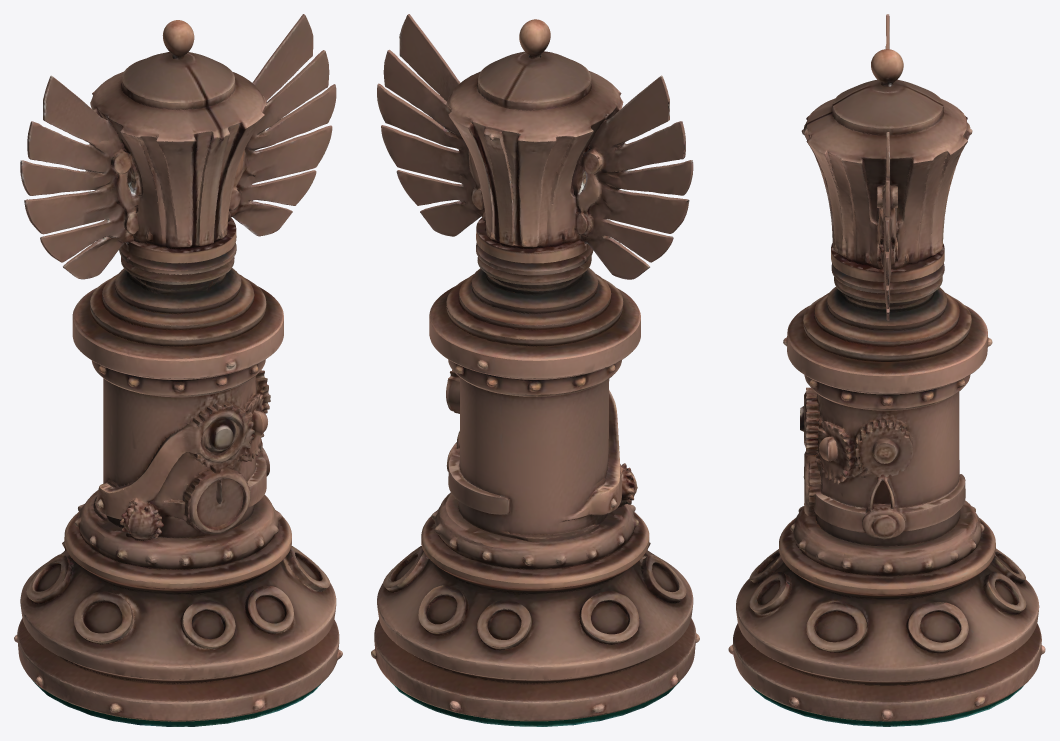
Rendered from bishop2.glb.
3 views of the same model, side by side, from view 1: azimuth 30°, elevation 25°; view 2: azimuth 150°, elevation 25°; view 3: azimuth 270°, elevation 25° (orthographic). The views are drawn at different scales.
Visible parts, largest first — view 1: model; view 2: model; view 3: model.
Boxes of the visible parts, box(x1,y1,x2,y2) form: model: box(14, 14, 342, 726); model: box(371, 14, 699, 726); model: box(728, 14, 1045, 726).
Size of the model in its own units: 0.9763 by 1.9 by 0.8874.
Materials: 1 (1 with a texture image).
